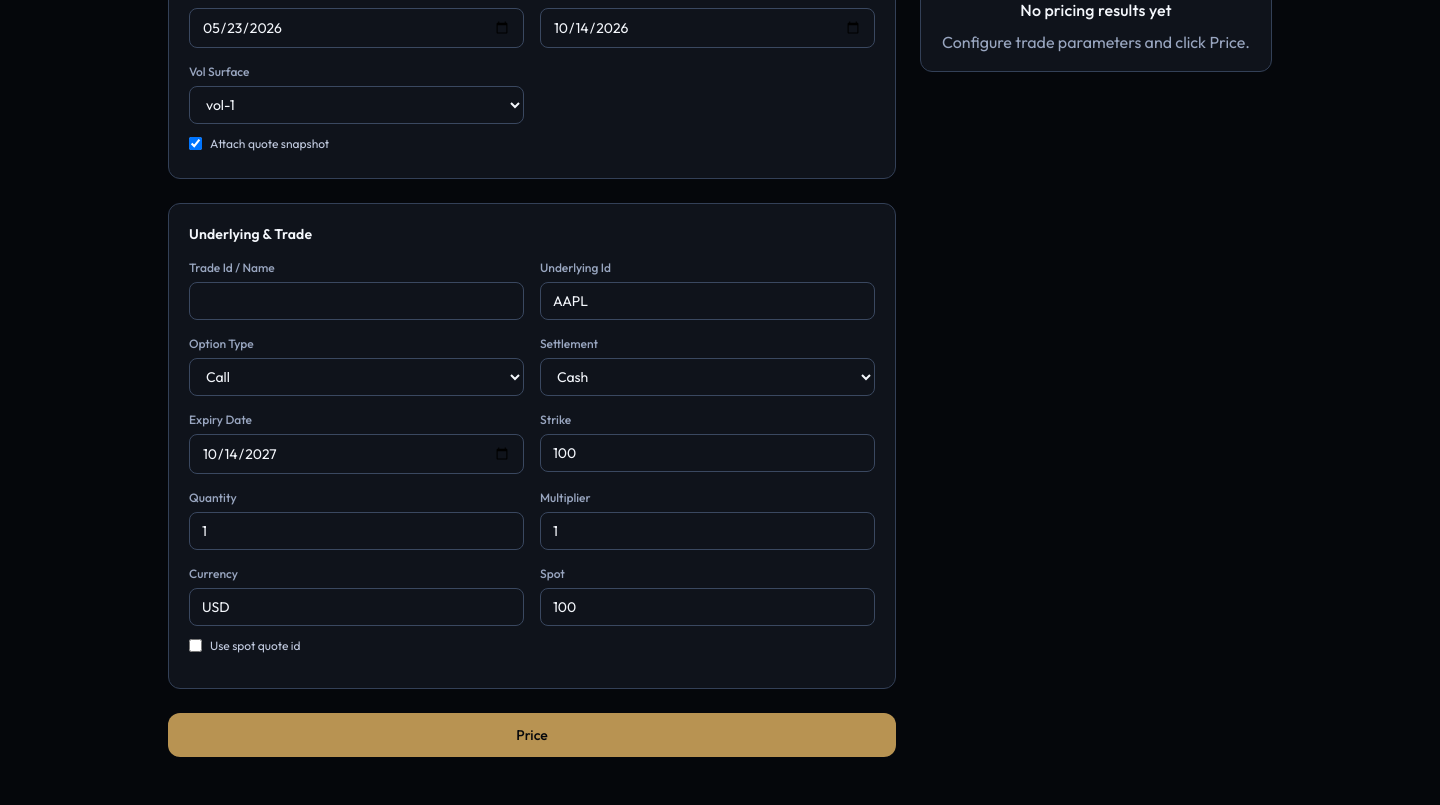
it: EquityOptions component — direct backend cutover › C2: equity_option_spot_resolution_failed 422 — error div visible; Results absent
This screenshot has width=1440, height=805.
(page scrolled)
Click the button "Price" at (532, 735), box [168,713,896,757]
(page scrolled)
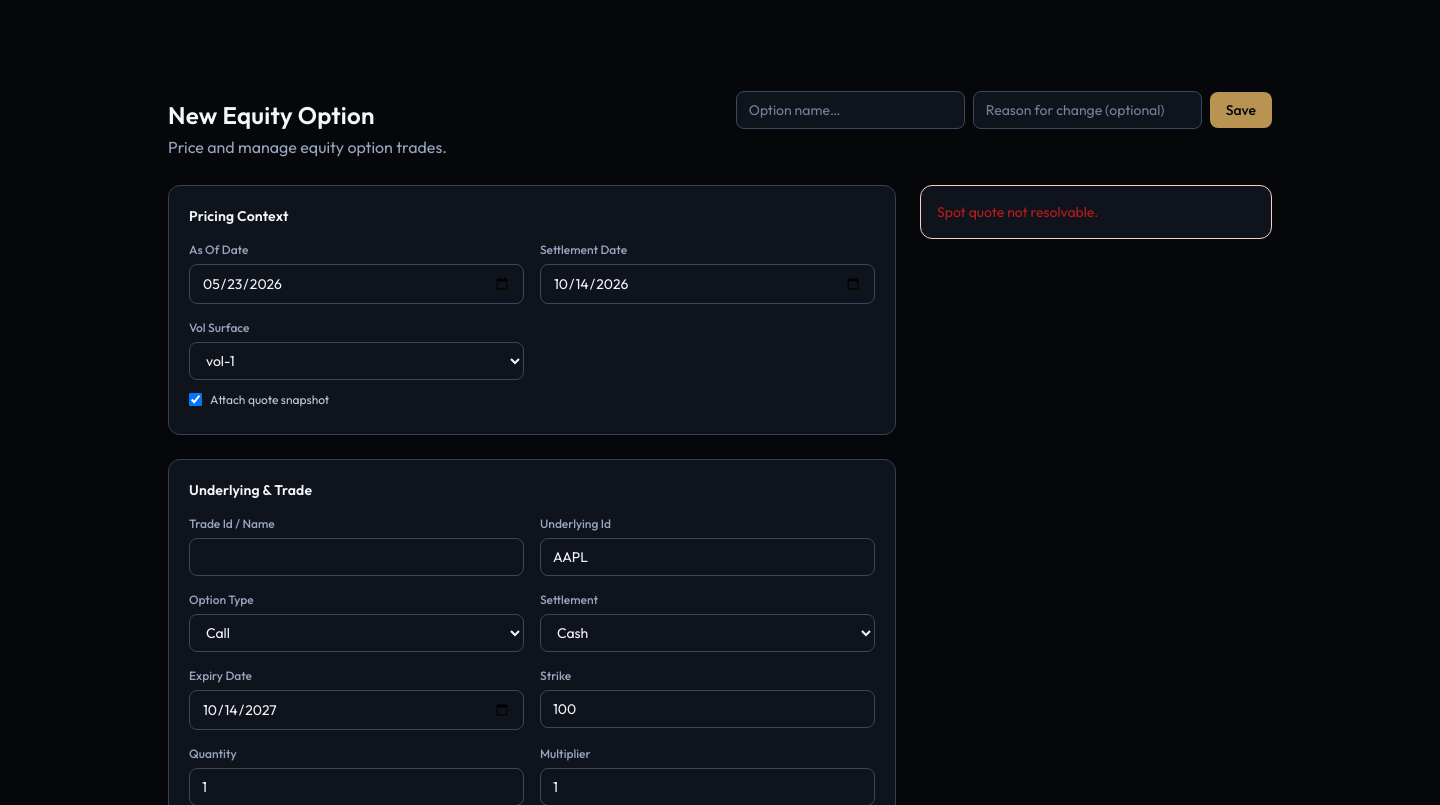
Now the text "Spot quote not resolvable." is shown, box [920,185,1272,239]
